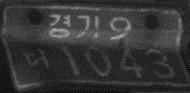0: (84, 45, 112, 79)
1: (57, 45, 81, 76)
3: (144, 46, 174, 80)
4: (118, 45, 141, 78)
9: (108, 15, 132, 42)
경기_O: (47, 12, 99, 40)
더: (22, 48, 50, 69)
